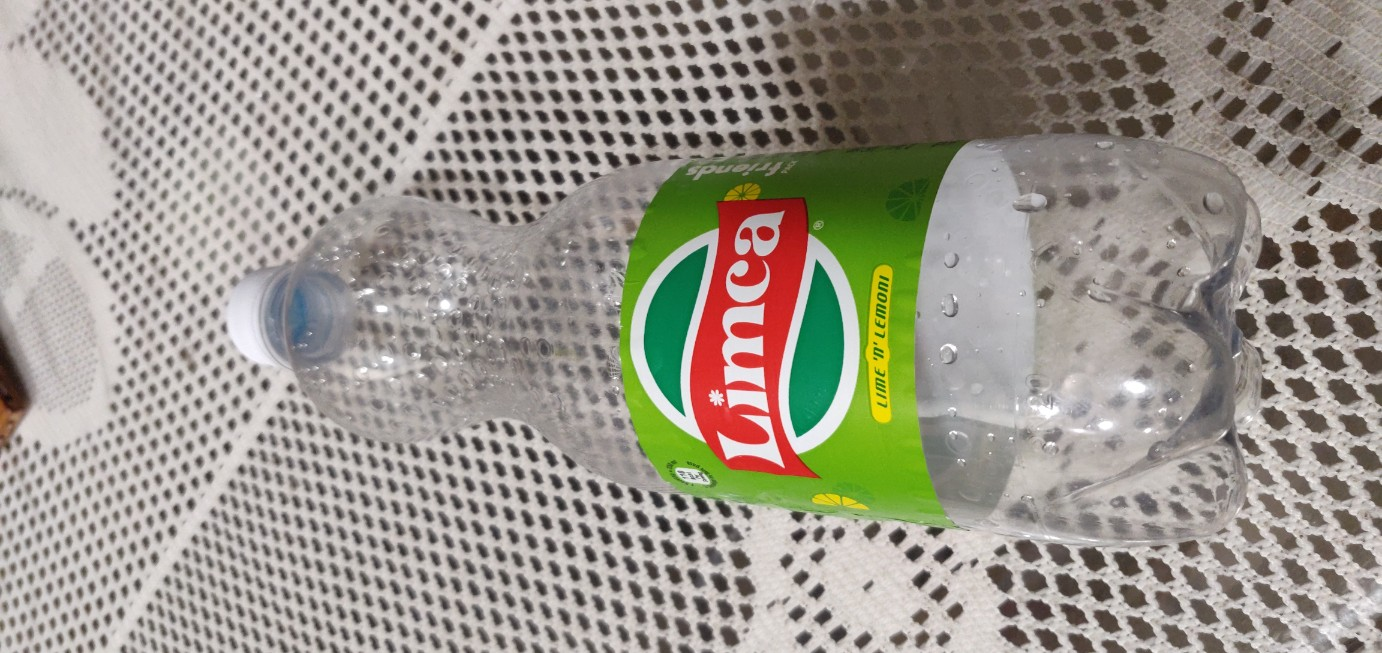Electronics: (198, 120, 1317, 562)
